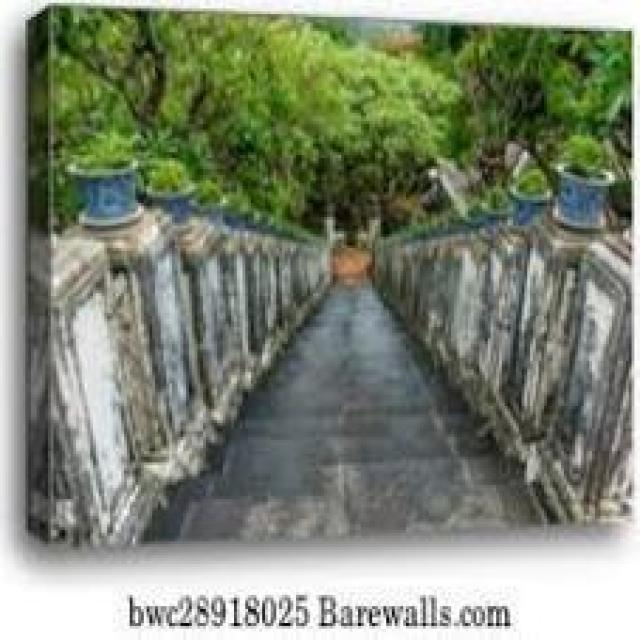downstair: (142, 376, 517, 528)
